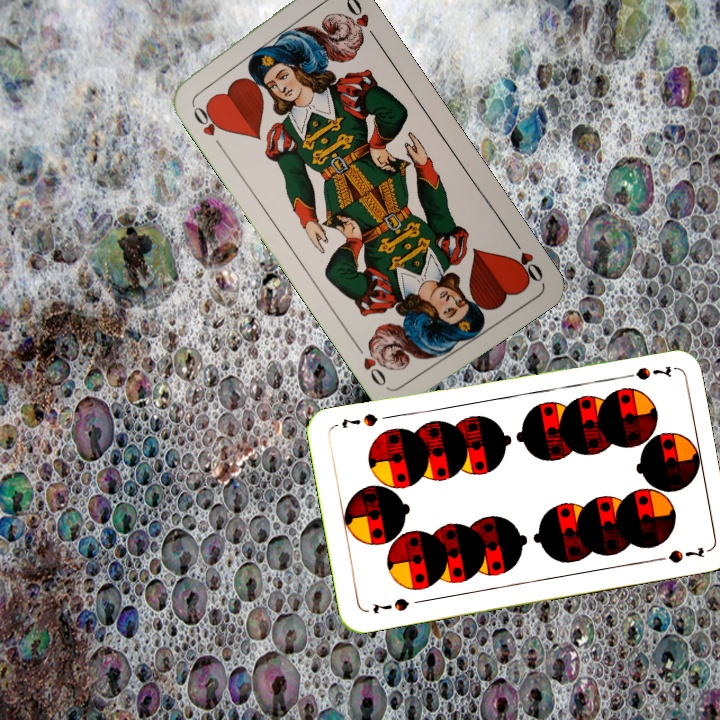HO: (506, 231, 546, 286), (187, 98, 228, 151)
S7: (616, 362, 674, 383), (368, 594, 412, 617)
